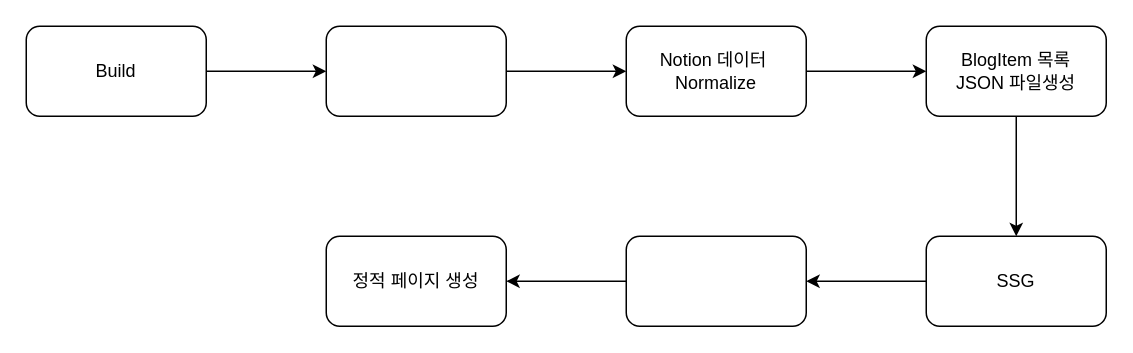
Image size: 1133x353. Some labels were removed from this diagram. Here are the shapes that lost their labels. From the top down, the centre of each, then its label:
the point at 415,70: Notion 데이터베이스 모두 불러오기
the point at 715,280: Notion 특정 블럭 컨텐츠 불러오기
